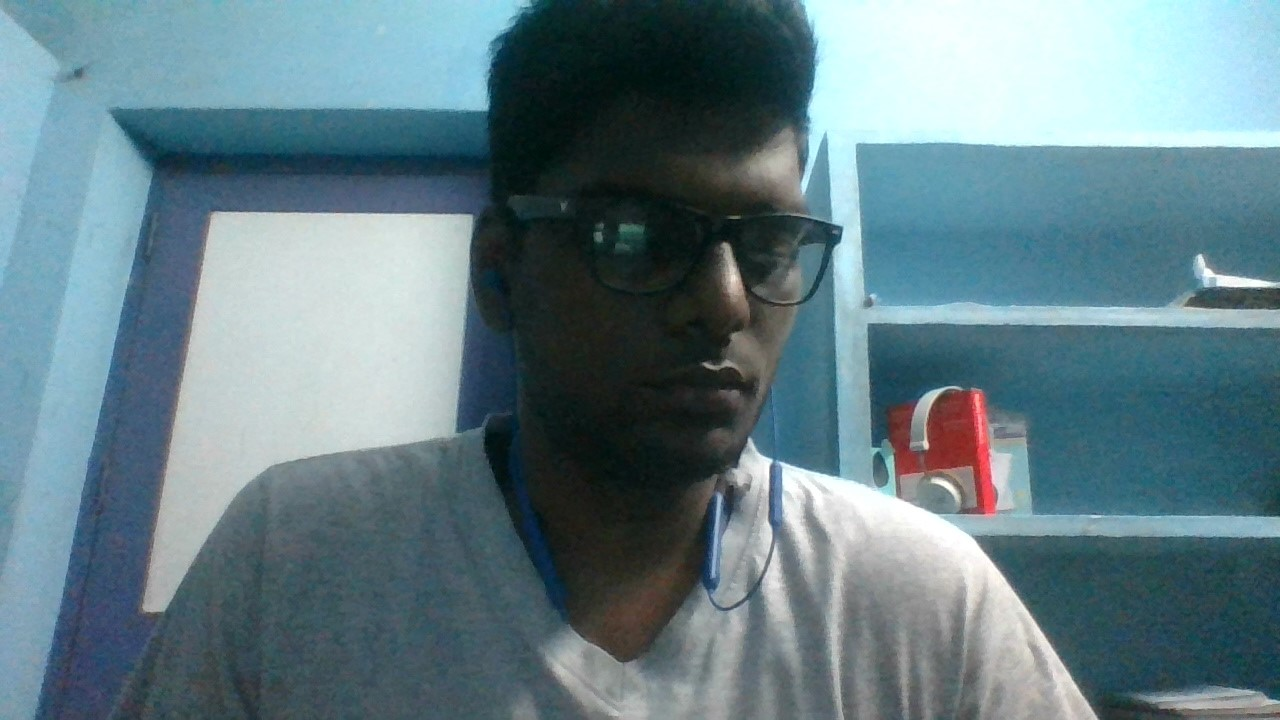person: (140, 1, 1101, 720)
